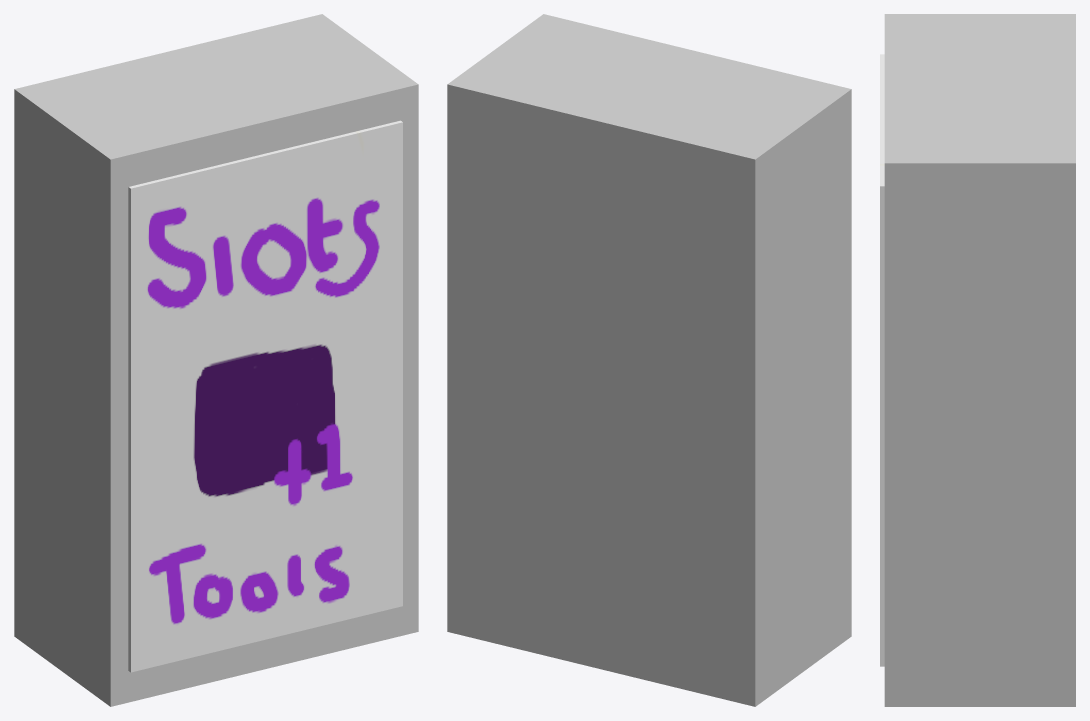
Rendered from Slot Tools Upgrade.glb.
The picture shows the model from 3 angles, left to right: view 1: azimuth 30°, elevation 25°; view 2: azimuth 150°, elevation 25°; view 3: azimuth 270°, elevation 25°; orthographic projection.
Parts seen in each view (by area): view 1: Cube.001, Cube; view 2: Cube; view 3: Cube, Cube.001.
Part boxes in pixels (bbox=[...]): Cube.001: bbox=[128, 120, 402, 672]; Cube: bbox=[14, 14, 418, 706]; Cube: bbox=[447, 14, 851, 706]; Cube: bbox=[884, 14, 1075, 706]; Cube.001: bbox=[880, 54, 884, 666].
Size of the model in its own units: 1.07 by 1.81 by 0.5908.
Materials: 2 (1 with a texture image).
